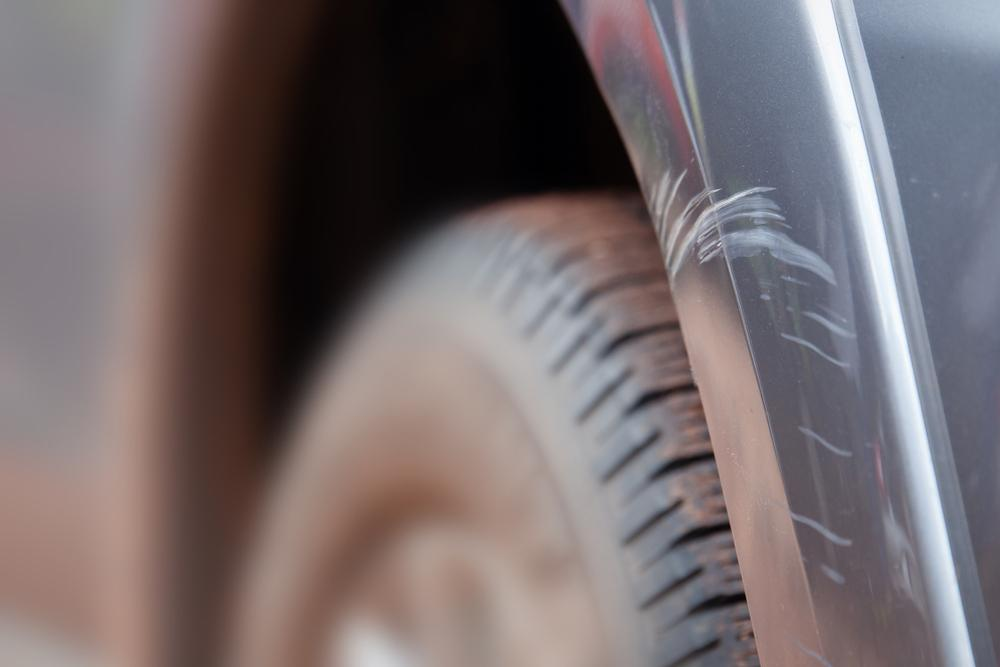scratch: (646, 163, 867, 667)
